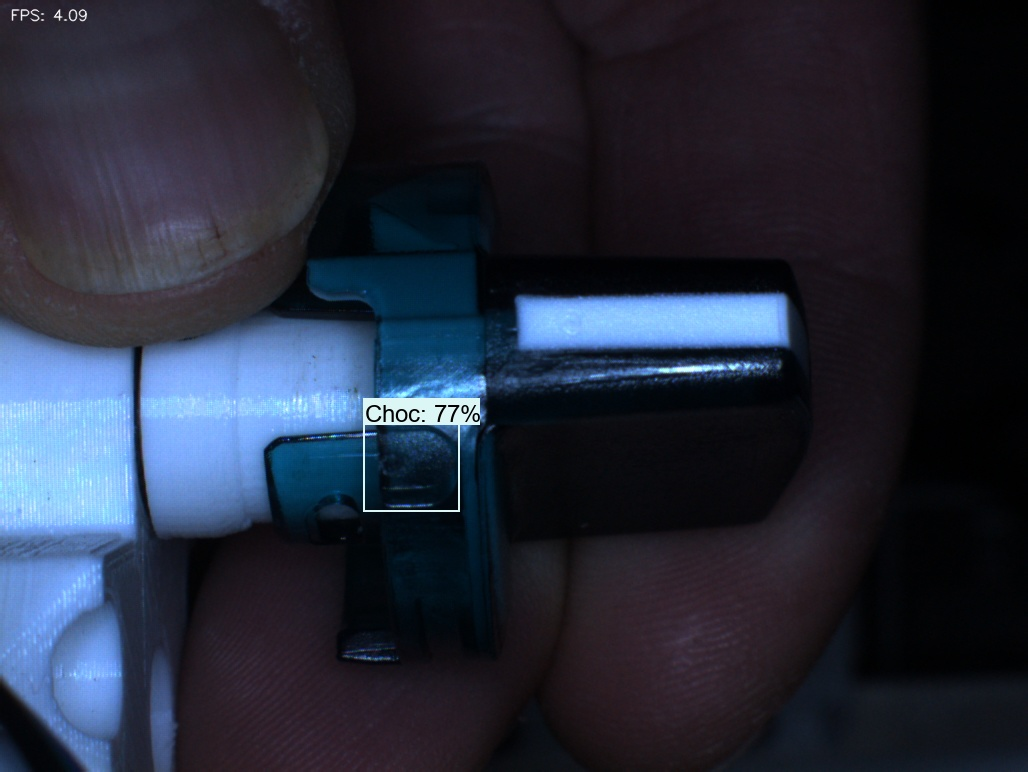DentOk: (346, 177, 407, 251)
